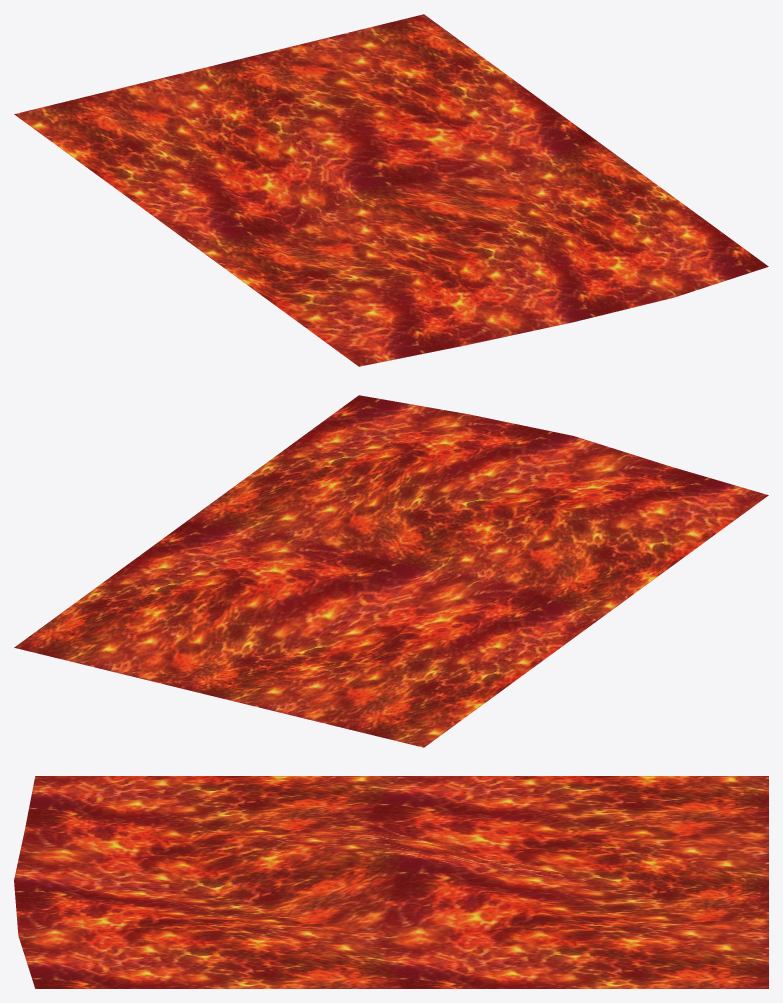
The picture shows the model from 3 angles, top to bottom: view 1: azimuth 30°, elevation 25°; view 2: azimuth 150°, elevation 25°; view 3: azimuth 270°, elevation 25°; orthographic projection. The views are drawn at different scales.
Parts seen in each view (by area): view 1: Plane30; view 2: Plane30; view 3: Plane30.
Boxes of the visible parts, <box> form: Plane30: <box>14,14,768,366</box>; Plane30: <box>14,395,768,747</box>; Plane30: <box>14,776,768,988</box>.
Size of the model in its own units: 386 by 12.89 by 579.
